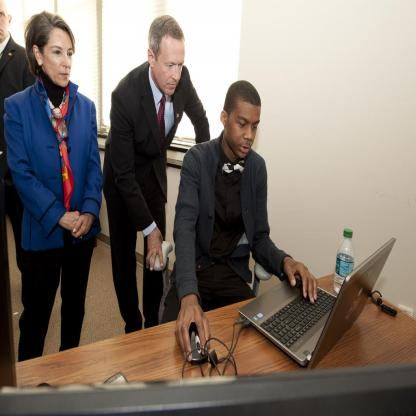board: (238, 236, 397, 369), (336, 229, 355, 294)
